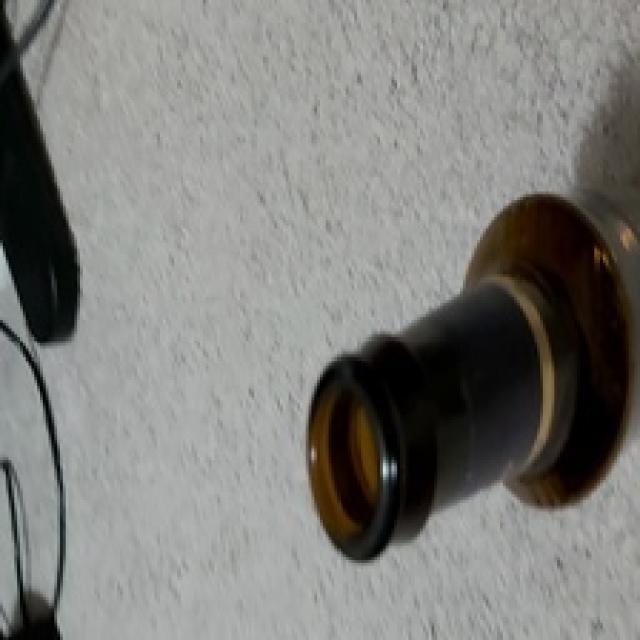Glass: (301, 190, 640, 565)
